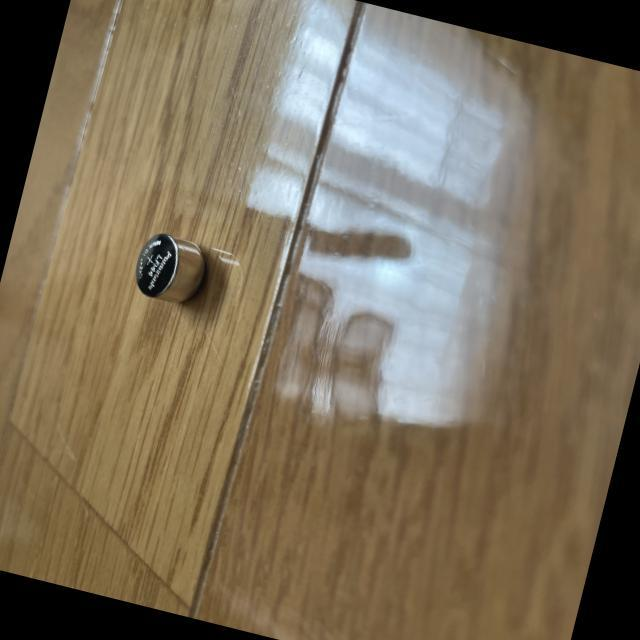COIN: (125, 224, 214, 308)
